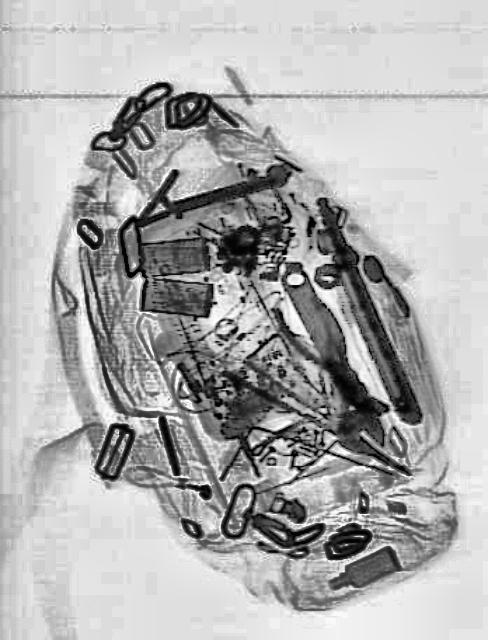Knife: (226, 353, 416, 483)
Pliers: (264, 270, 404, 462)
Wrench: (262, 248, 398, 458)
